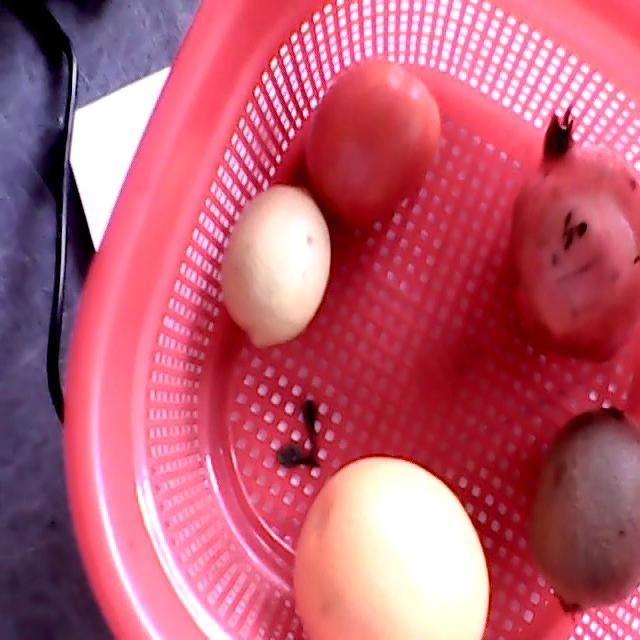kiwi: (528, 404, 638, 616)
lemon: (221, 183, 332, 344)
orange: (294, 458, 493, 638)
pomegranate: (509, 108, 639, 366)
tomato: (305, 55, 439, 224)
